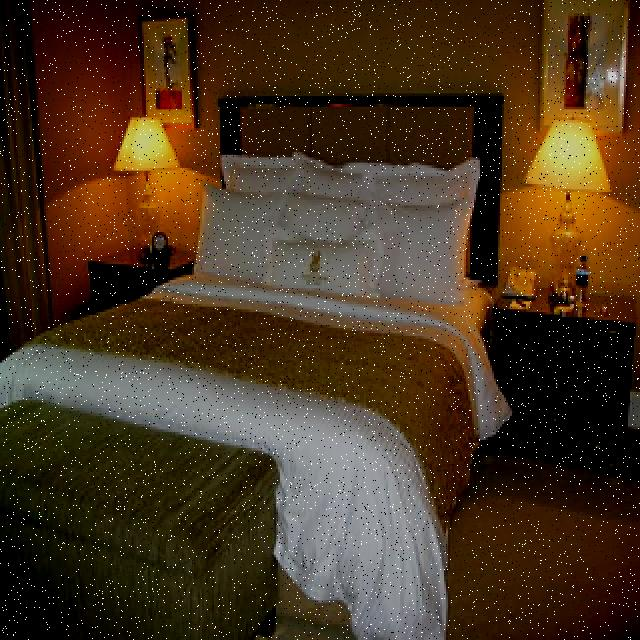bed: (0, 89, 513, 640)
